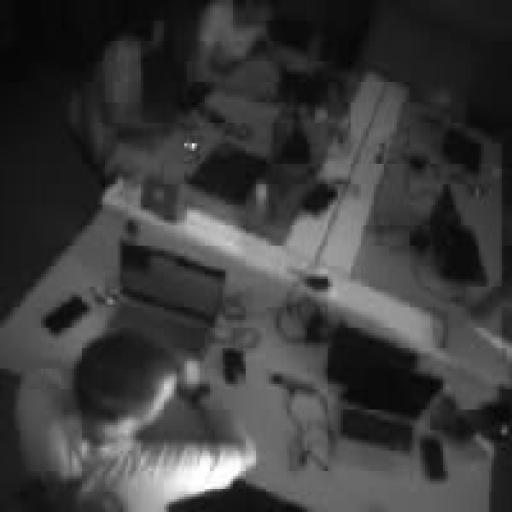human: (16, 331, 255, 511), (70, 21, 171, 181), (192, 0, 273, 87)
